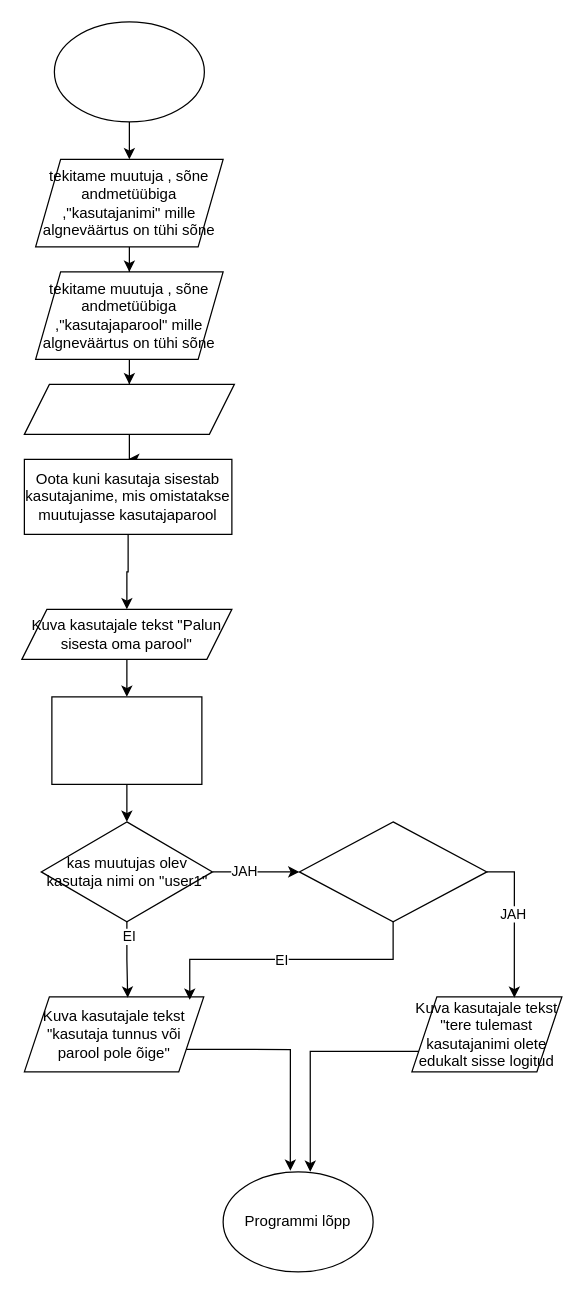
This 584x1294 diagram has some shape labels left out. Here are the shapes that lost their labels. From the top down, the centre of each, then its label:
point 128,71: Programmi algus
point 128,408: Kuva kasutajale tekst "PAlun sisesta oma kasutajanimi"
point 126,740: Oota kuni kasutaja sisestab parooli, mis omistatakse kasutajaparool muutujasse
point 392,871: kas kasutaja pool sisestaud parool on "qwerty"
